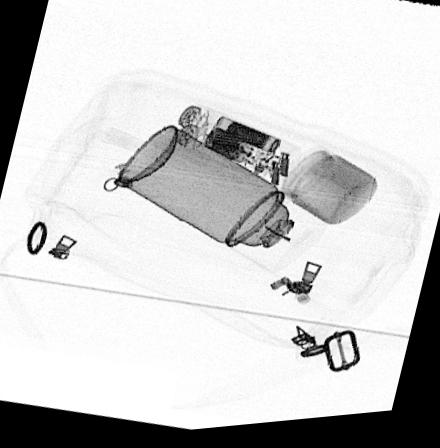Sprayer: (113, 127, 331, 280)
